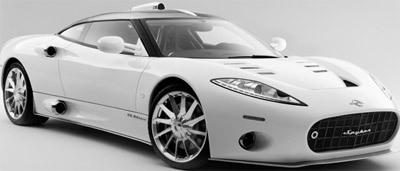car: (3, 1, 400, 169)
